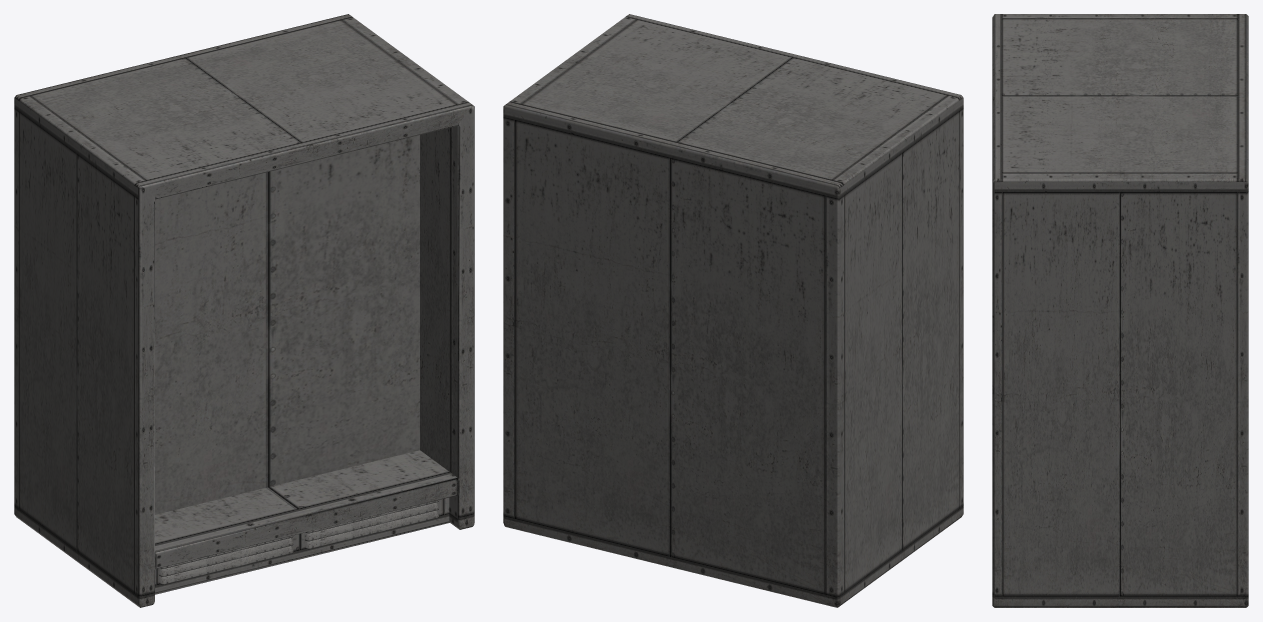
Rendered from p6_engine_monitor_case_lod0.glb.
3 renders of one model, left to right at view 1: azimuth 30°, elevation 25°; view 2: azimuth 150°, elevation 25°; view 3: azimuth 270°, elevation 25°, orthographic.
Visible parts, largest first — view 1: surf0; view 2: surf0; view 3: surf0.
Boxes of the visible parts, x1=… form: surf0: x1=14, y1=14, x2=474, y2=607; surf0: x1=503, y1=14, x2=963, y2=607; surf0: x1=992, y1=14, x2=1248, y2=607.
Bounding box in the file's own units: 40 × 48 × 26.
